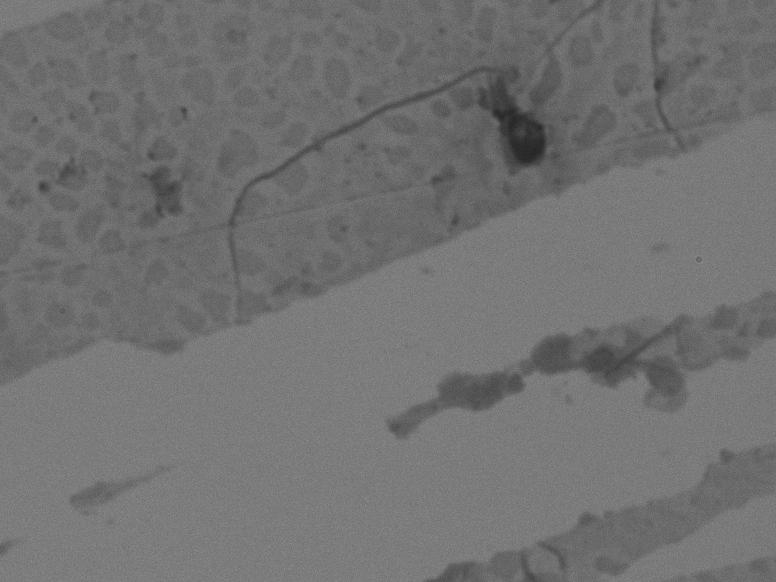Abnormal: (195, 42, 563, 307)
